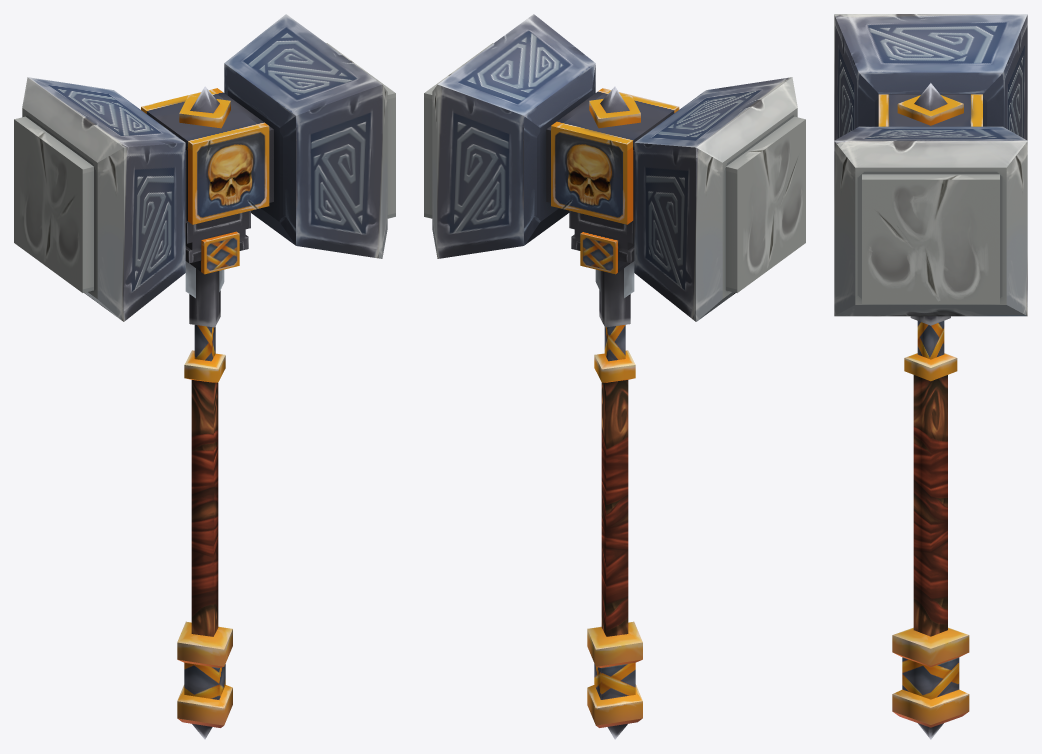
The model's file is hammer_mobile.fbx.
3 renders of one model, left to right at view 1: azimuth 30°, elevation 25°; view 2: azimuth 150°, elevation 25°; view 3: azimuth 270°, elevation 25°, orthographic.
Visible parts, largest first — view 1: hammer_mobile; view 2: hammer_mobile; view 3: hammer_mobile.
Part boxes in pixels (<box>): hammer_mobile: <box>14,14,395,739</box>; hammer_mobile: <box>424,14,805,739</box>; hammer_mobile: <box>834,14,1027,739</box>.
Bounding box in the file's own units: 0.6373 × 1.28 × 0.3395.
